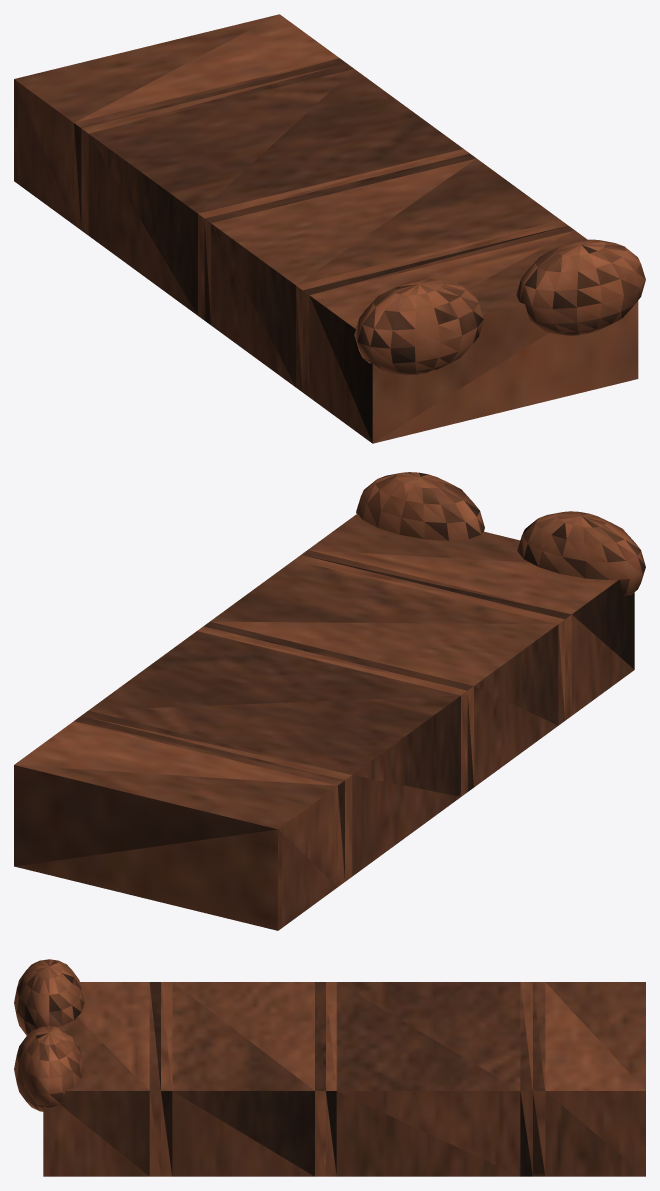
Rendered from worm.FBX.
3 views of the same model, one above another, from view 1: azimuth 30°, elevation 25°; view 2: azimuth 150°, elevation 25°; view 3: azimuth 270°, elevation 25° (orthographic). The views are drawn at different scales.
Parts seen in each view (by area): view 1: Box001; view 2: Box001; view 3: Box001.
Boxes of the visible parts, box(x1,y1,x2,y2) form: Box001: box(14, 14, 645, 443); Box001: box(14, 472, 645, 930); Box001: box(14, 959, 645, 1176).
Size of the model in its own units: 6.62 by 3.22 by 15.14.
Materials: 1 (1 with a texture image).
